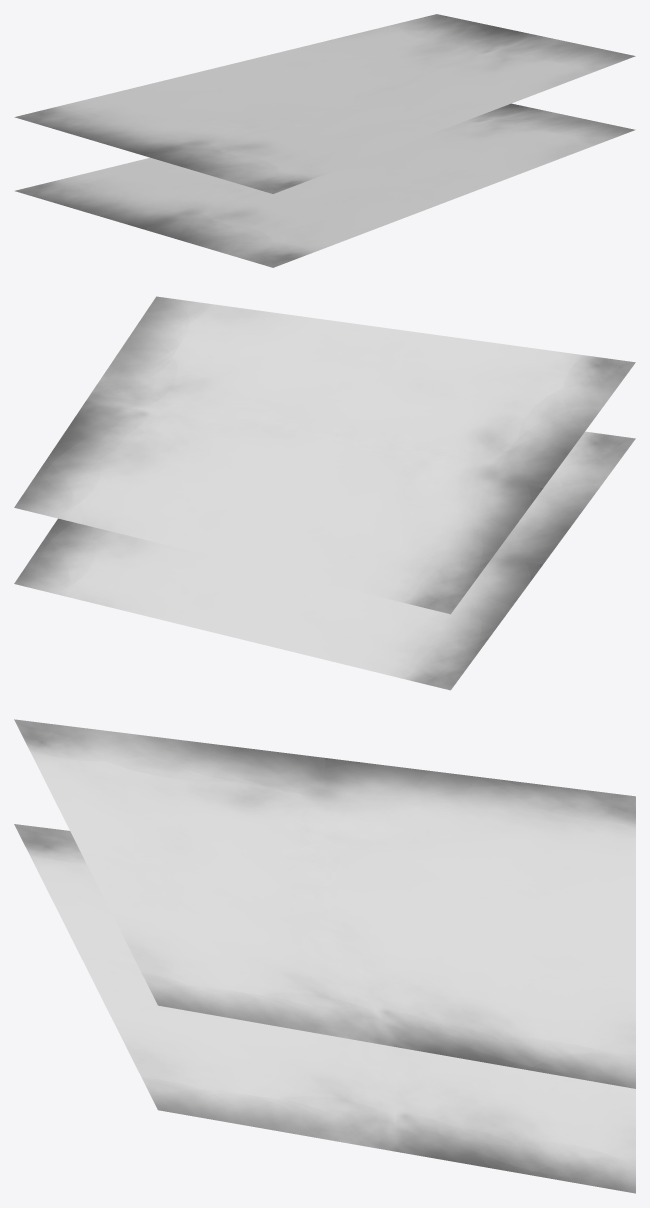
Rendered from CourseWinter_CurveFloor_8_15.fbx.
3 renders of one model, top to bottom at view 1: azimuth 30°, elevation 25°; view 2: azimuth 150°, elevation 25°; view 3: azimuth 270°, elevation 25°, orthographic. The views are drawn at different scales.
Visible parts, largest first — view 1: polySurface725; view 2: polySurface725; view 3: polySurface725.
Part boxes in pixels (x1,y1,x2,y2): polySurface725: (14,14,635,267); polySurface725: (14,296,635,690); polySurface725: (14,719,635,1193).
Bounding box in the file's own units: 6.44 × 2 × 5.39.
Materials: 1 (1 with a texture image).
